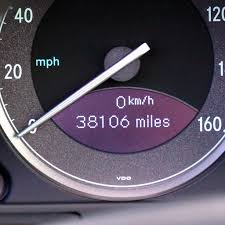Digital_Meter: (68, 112, 179, 130)
